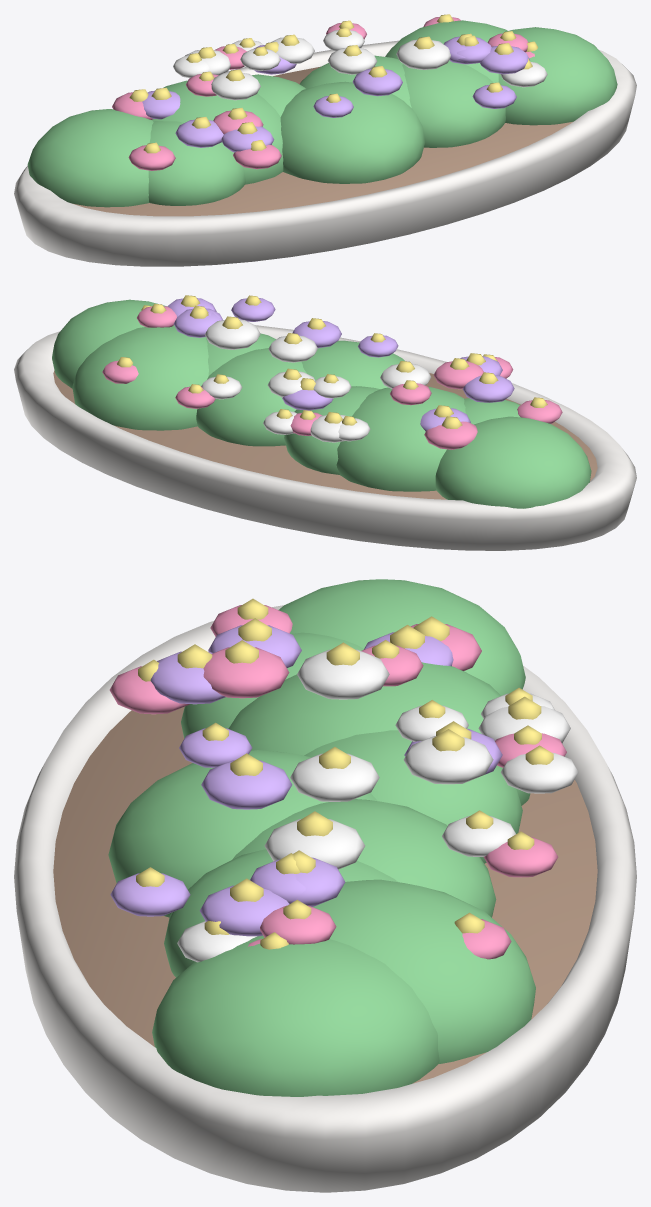
Rendered from LobbyFlowerBed.glb.
3 renders of one model, top to bottom at view 1: azimuth 30°, elevation 25°; view 2: azimuth 150°, elevation 25°; view 3: azimuth 270°, elevation 25°, orthographic. The views are drawn at different scales.
Visible parts, largest first — view 1: Leaves, Curb, Soil, FlowerC, FlowerB, FlowerA, Hearts; view 2: Leaves, Curb, FlowerB, Soil, FlowerC, FlowerA, Hearts; view 3: Leaves, Curb, Soil, FlowerB, FlowerC, FlowerA, Hearts.
Part boxes in pixels (<box>): Leaves: <box>27,20,617,207</box>; Curb: <box>14,40,636,266</box>; Soil: <box>73,66,573,216</box>; FlowerC: <box>142,36,529,152</box>; FlowerB: <box>173,30,547,100</box>; FlowerA: <box>112,17,534,170</box>; Hearts: <box>129,14,538,153</box>; Leaves: <box>52,299,591,508</box>; Curb: <box>14,325,636,550</box>; FlowerB: <box>201,319,431,442</box>; Soil: <box>53,370,597,499</box>; FlowerC: <box>167,298,514,431</box>; FlowerA: <box>102,306,562,449</box>; Hearts: <box>117,295,547,428</box>; Leaves: <box>108,579,535,1096</box>; Curb: <box>14,605,636,1192</box>; Soil: <box>53,707,597,1083</box>; FlowerB: <box>177,649,578,962</box>; FlowerC: <box>110,625,502,936</box>; FlowerA: <box>109,605,566,959</box>; Hearts: <box>136,598,553,949</box>.
Bounding box in the file's own units: 10.3 × 2.05 × 5.15.
